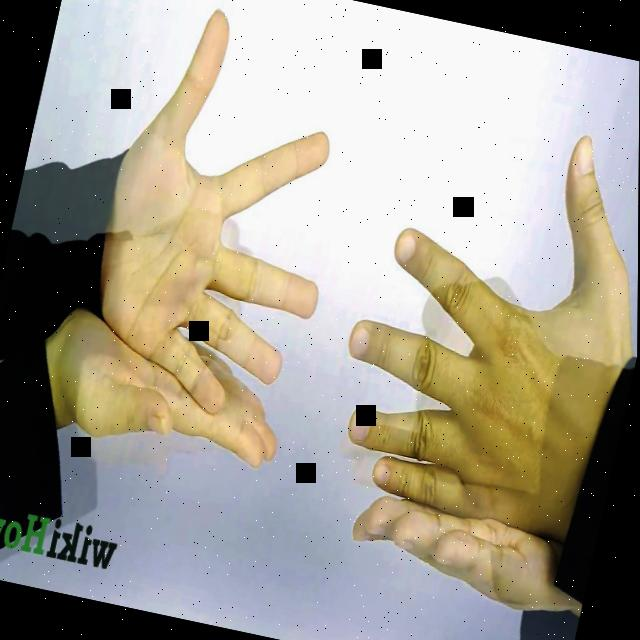Paper: (314, 92, 639, 548), (69, 0, 373, 431)
